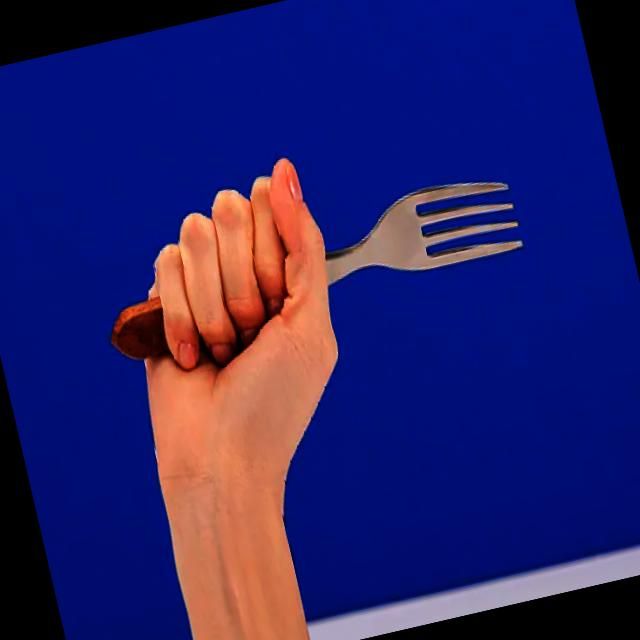fork: (92, 164, 530, 369), (502, 118, 502, 120)
